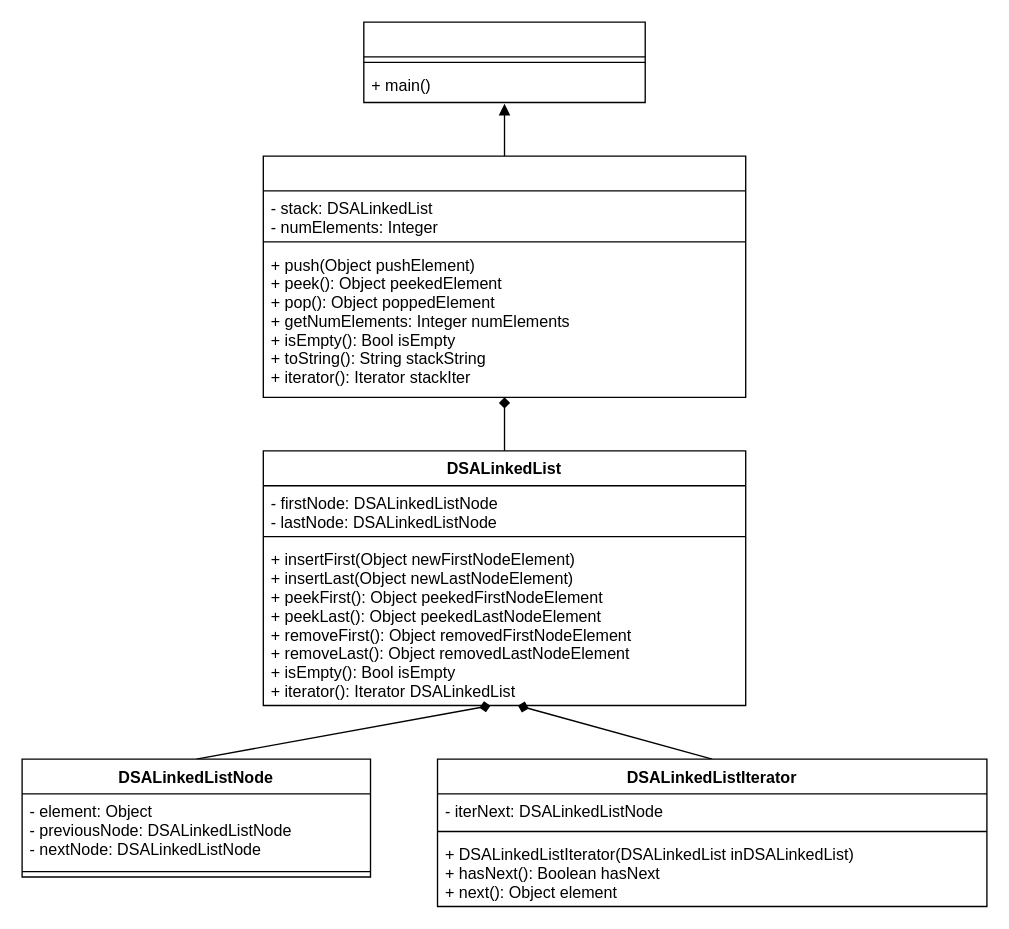
The diagram is 1009 pixels wide and 929 high, and some of its shapes have lost their labels. Each missing label, with the box of its shape:
DSAStack: (262, 155, 746, 397)
UnitTestDSAStack: (362, 21, 645, 103)
